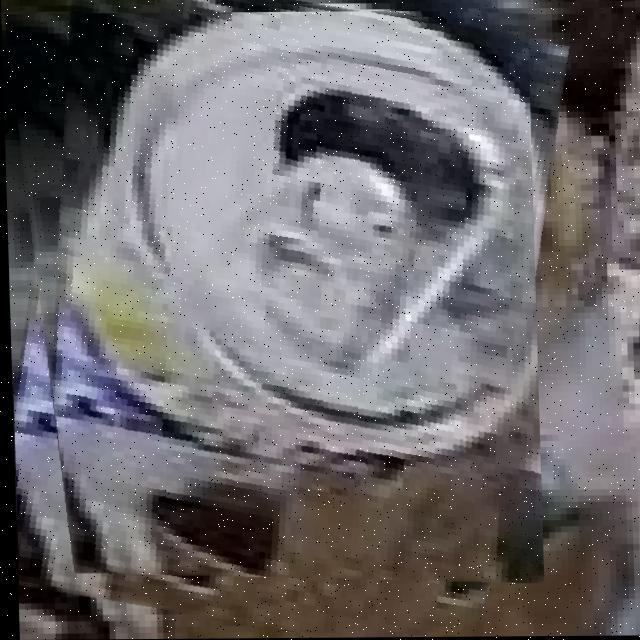can: (40, 12, 534, 578)
